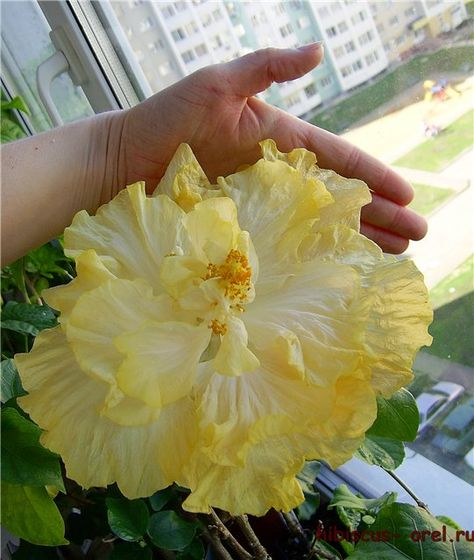Hibiscus: (9, 143, 425, 513)
